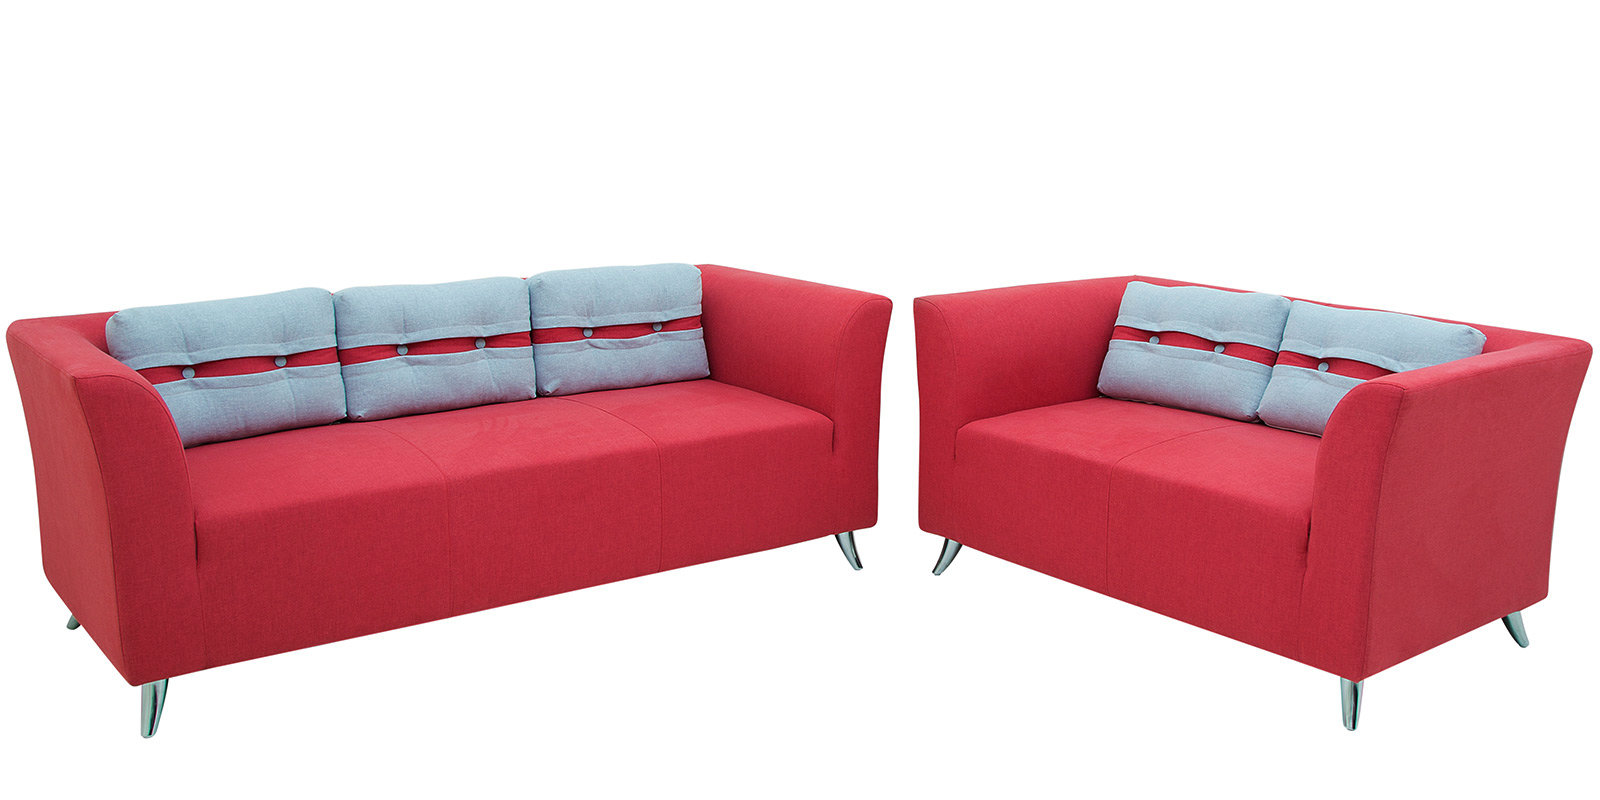Iowa Three Seater Sofa in Crimson Red Colour by Furnitech: (24, 248, 897, 750), (902, 255, 1577, 739)
